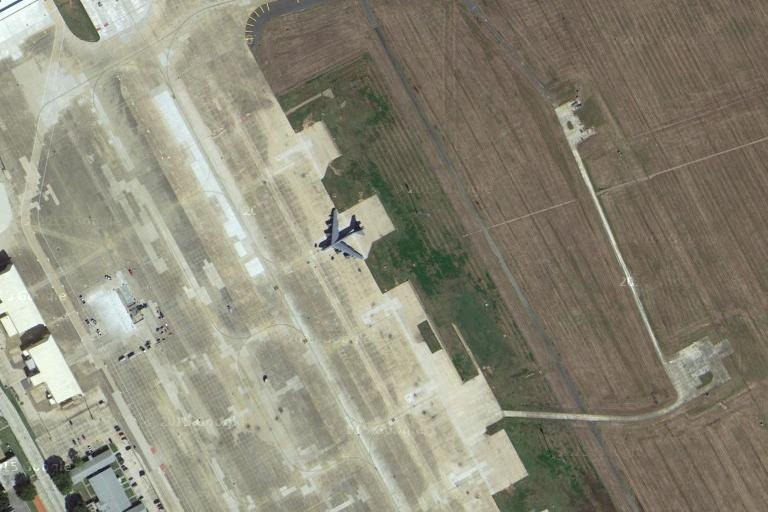B-52: (312, 206, 369, 263)
